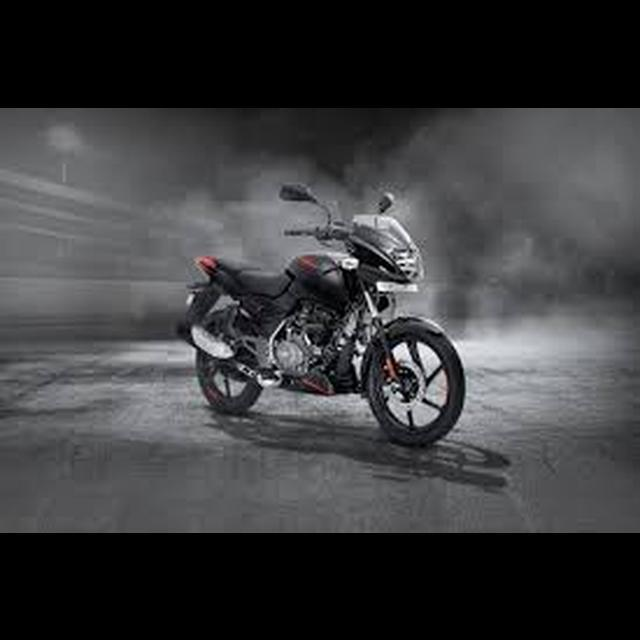motorcycle: (171, 175, 472, 453)
